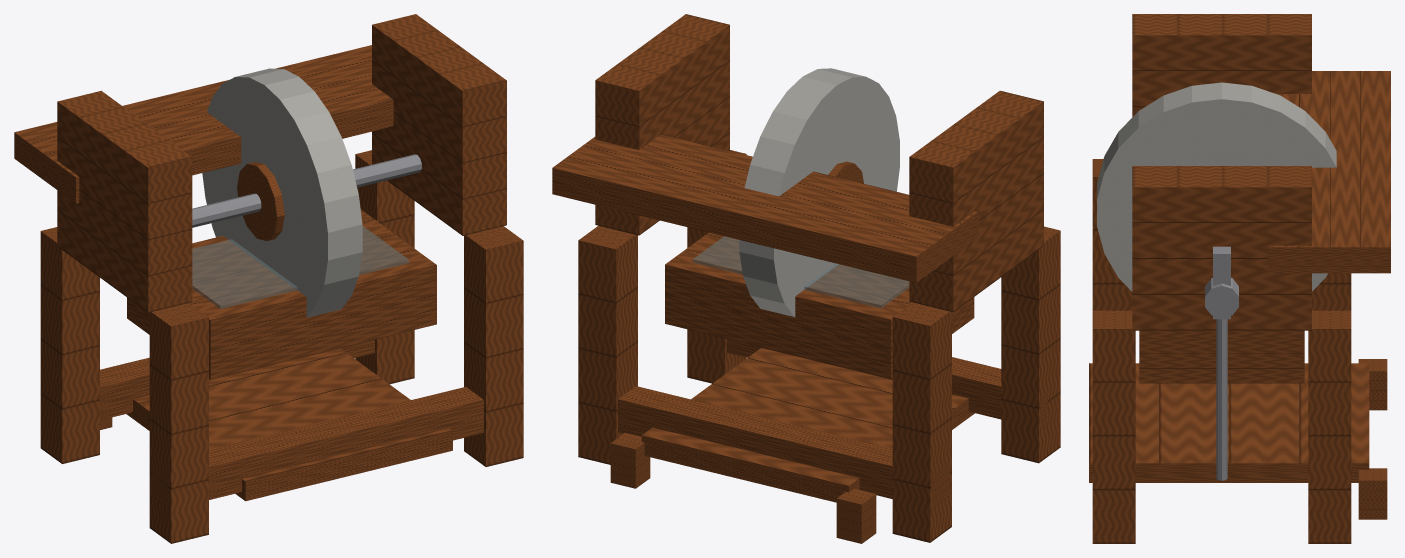
File: treadle-grindstone-1-2-m.glb
The picture shows the model from 3 angles, left to right: view 1: azimuth 30°, elevation 25°; view 2: azimuth 150°, elevation 25°; view 3: azimuth 270°, elevation 25°; orthographic projection.
Parts seen in each view (by area): view 1: blacksmith-forge-and-armoury-treadle-grindstone, stone-spin/stone, treadle/timber, stone-spin/iron, stone-spin/timber; view 2: blacksmith-forge-and-armoury-treadle-grindstone, treadle/timber, stone-spin/stone; view 3: blacksmith-forge-and-armoury-treadle-grindstone, treadle/timber, stone-spin/stone.
Part boxes in pixels (<box>): blacksmith-forge-and-armoury-treadle-grindstone: <box>14,14,523,543</box>; stone-spin/stone: <box>202,68,362,317</box>; treadle/timber: <box>126,348,452,501</box>; stone-spin/iron: <box>192,154,421,227</box>; stone-spin/timber: <box>237,162,284,240</box>; blacksmith-forge-and-armoury-treadle-grindstone: <box>552,14,1060,543</box>; treadle/timber: <box>641,348,974,502</box>; stone-spin/stone: <box>739,68,899,316</box>; blacksmith-forge-and-armoury-treadle-grindstone: <box>1092,14,1390,543</box>; treadle/timber: <box>1089,363,1369,482</box>; stone-spin/stone: <box>1097,82,1336,291</box>.
Bounding box in the file's own units: 1.22 × 1.13 × 0.84.
Materials: 4 (2 with a texture image).
